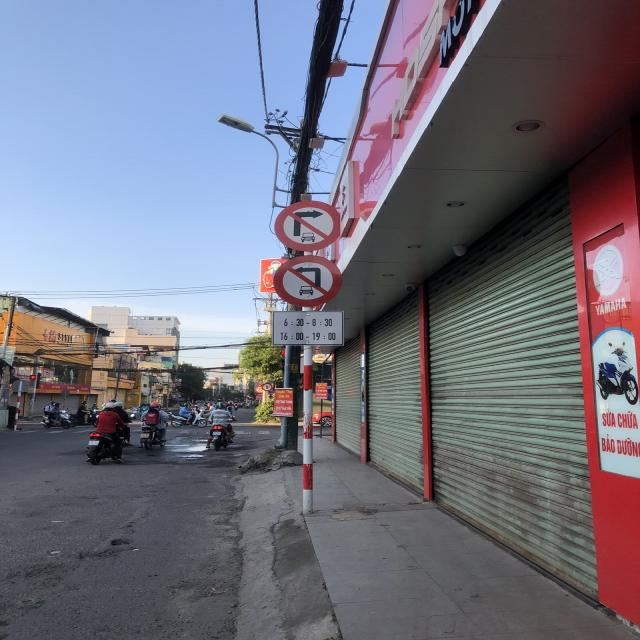Bien bao cam xe o to re phai: (271, 194, 345, 253)
Bien bao cam xe o to re trai: (272, 255, 346, 306)
